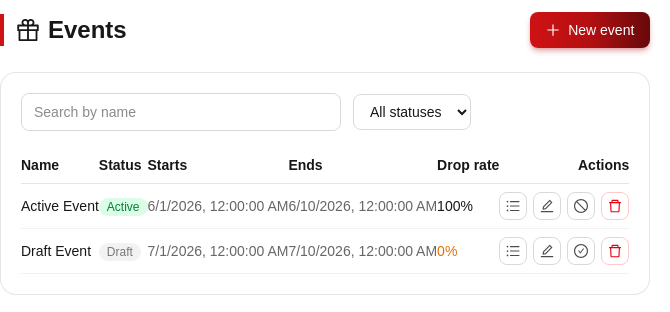
Test: filters events by search
This screenshot has width=670, height=312.
Expected: the text "Active Event" is shown, [21,184,99,228]
Type "Draft" into the field with placeholder "Search by name" at coordinates (181, 112), box [21,93,341,131]
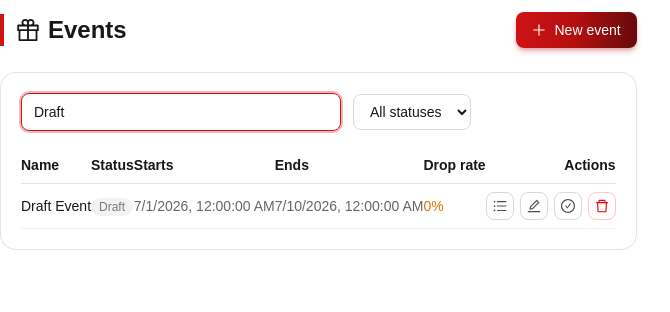
Expected: the text "Draft Event" is shown, [21,184,91,228]
Now the text "Active Event" is gone
